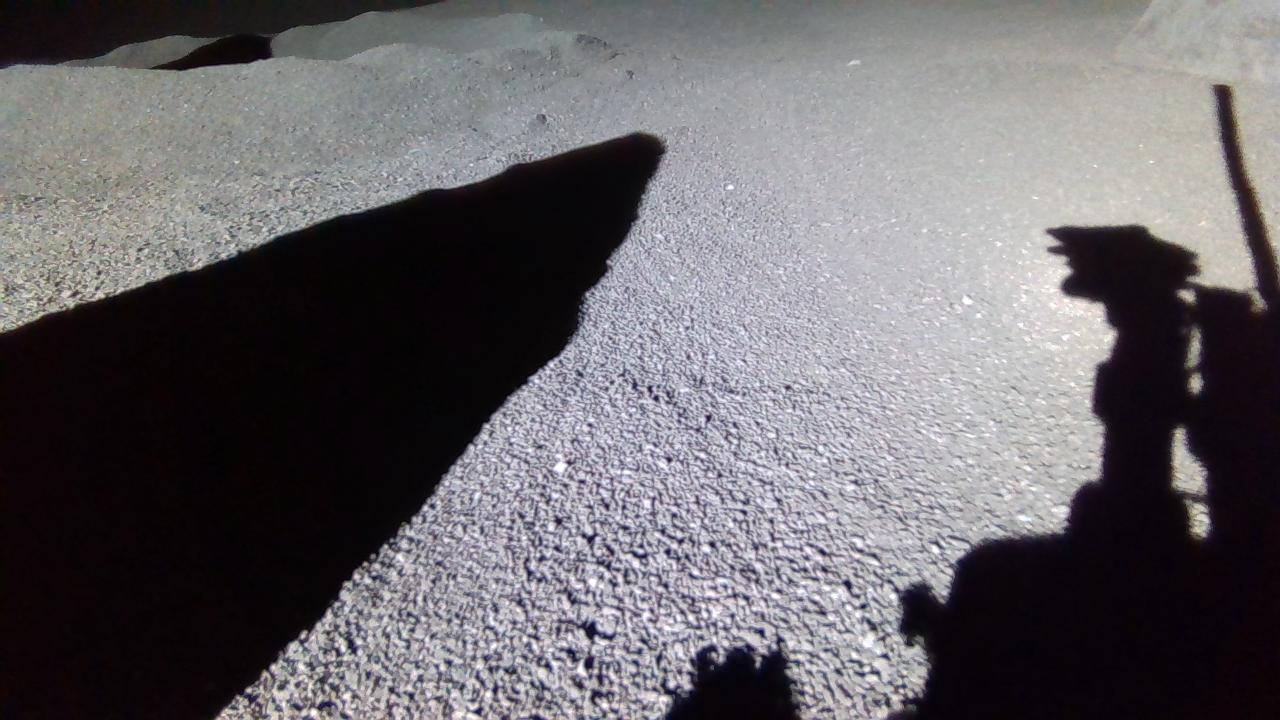rock: (1118, 0, 1280, 83)
